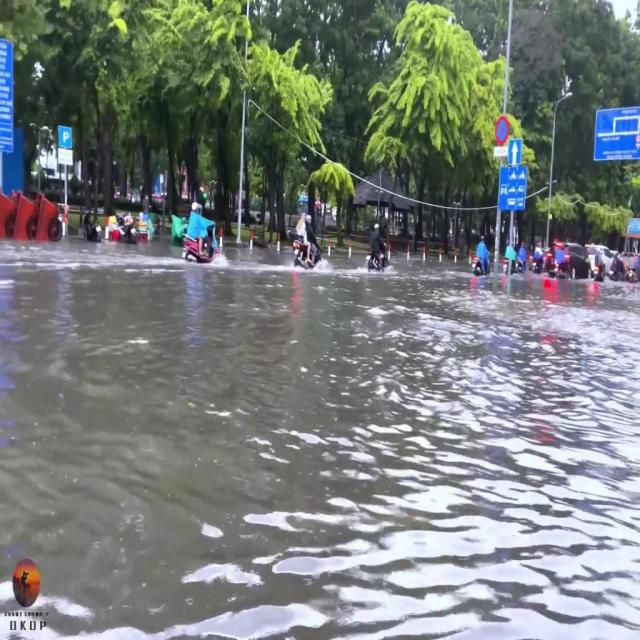cam_dung_xe_va_do_xe: (495, 116, 508, 144)
duong_mot_chieu: (507, 139, 522, 164)
khac: (594, 108, 640, 160), (58, 126, 72, 148), (57, 148, 73, 166)
lan_duong_cho_tung_xe_theo_vach_ke_duong: (498, 166, 527, 210)
